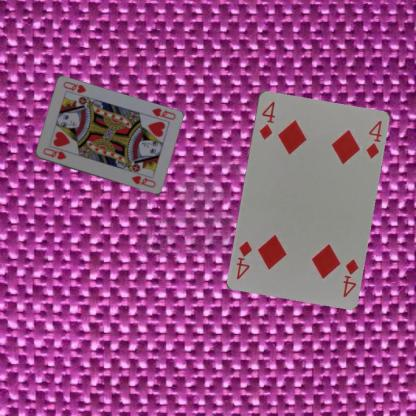4d: (256, 98, 276, 140), (340, 256, 359, 298)
Qh: (149, 105, 177, 121), (41, 146, 68, 161)
